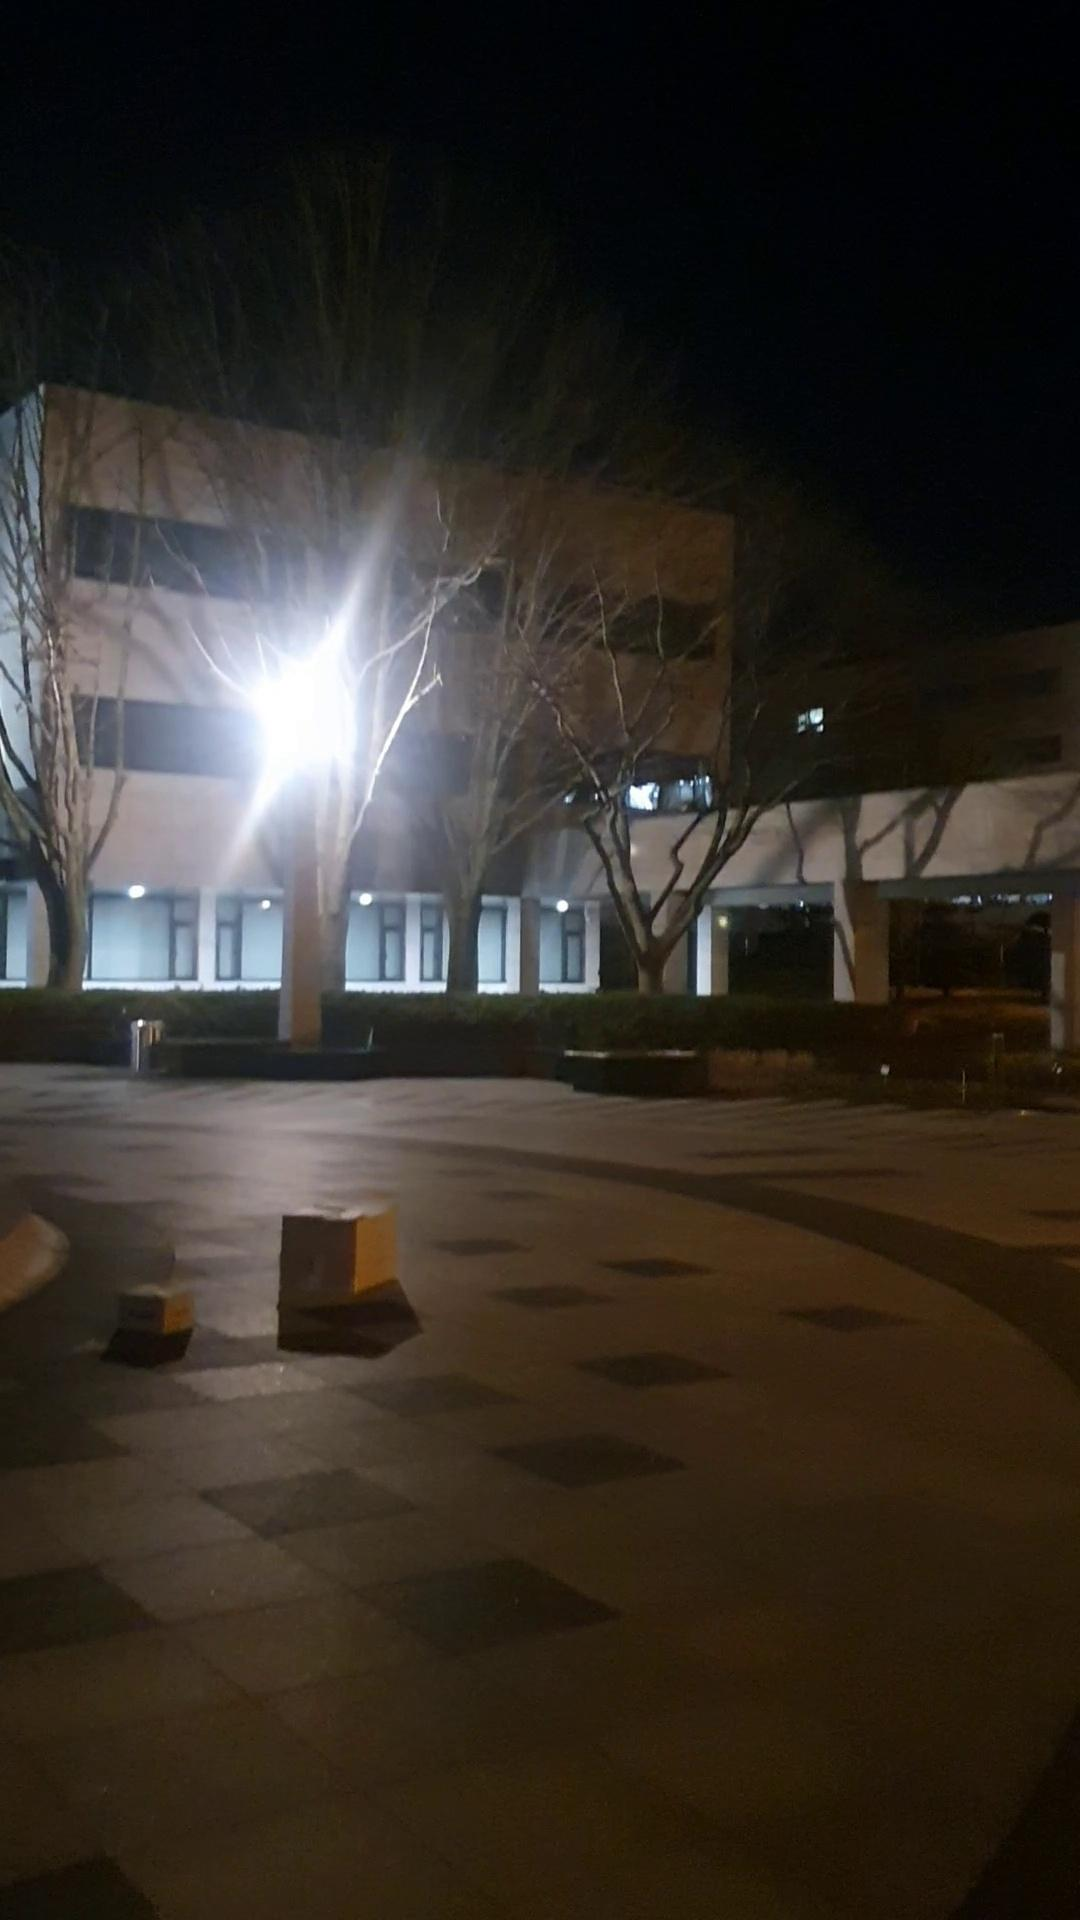Box: (266, 1211, 405, 1312), (116, 1273, 204, 1353)
